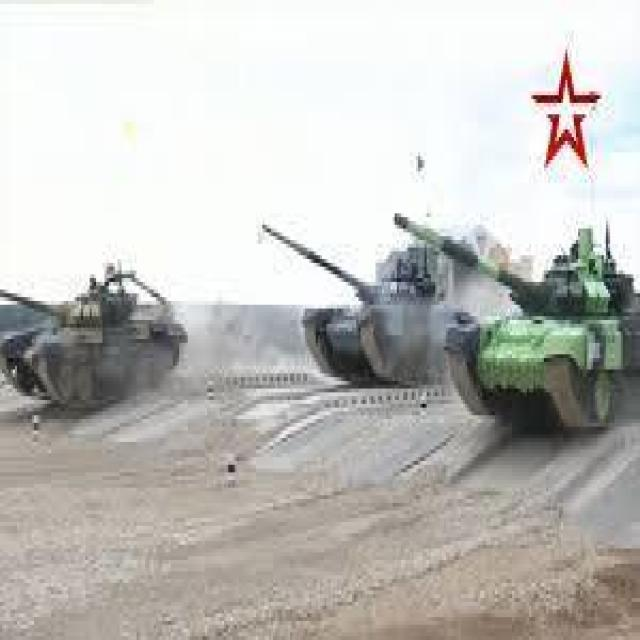Tanks: (6, 187, 248, 514), (245, 162, 506, 444), (463, 194, 625, 518)
